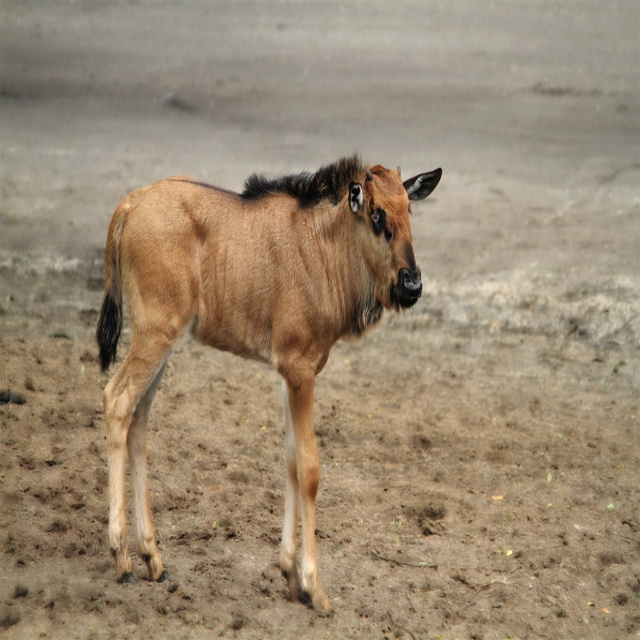Cattle: (91, 157, 443, 618)
